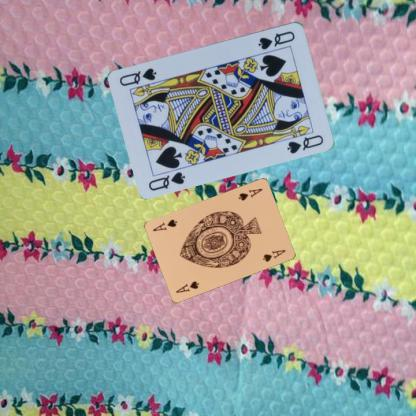As: (236, 186, 264, 202), (174, 278, 200, 294)
Qs: (146, 169, 187, 192), (256, 28, 296, 51)
